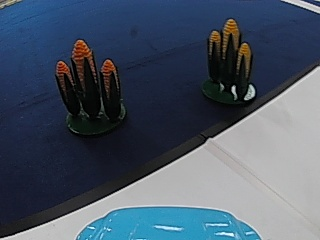corn: (53, 36, 129, 135), (203, 13, 256, 103)
